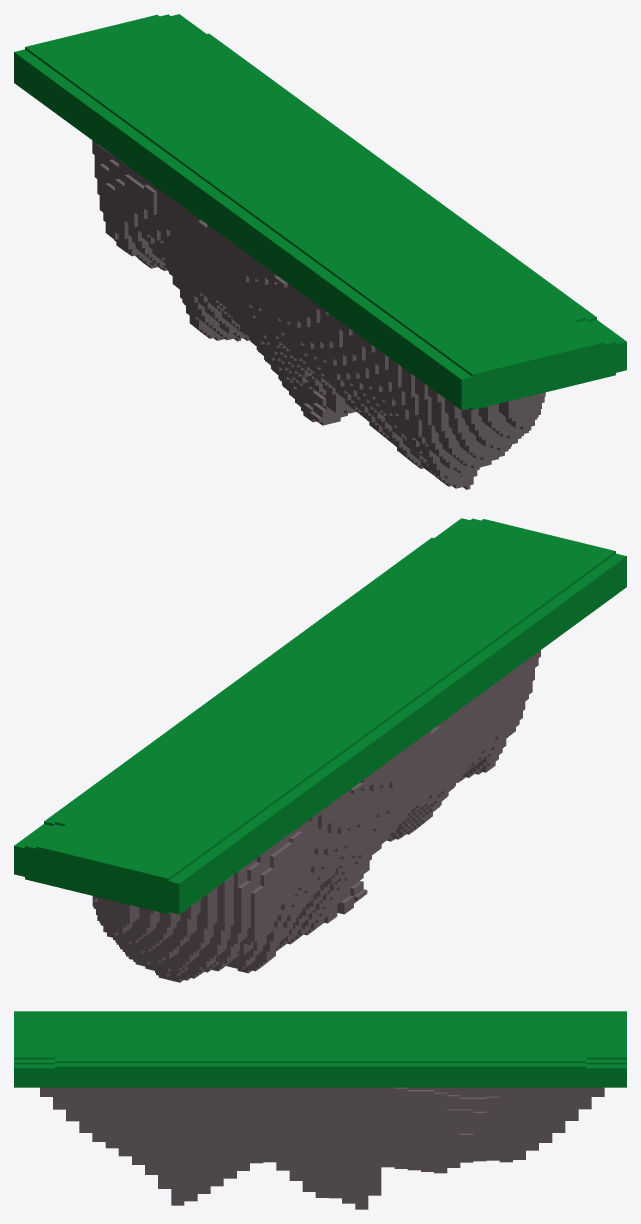
The model's file is VoxelPlatform.fbx.
3 views of the same model, one above another, from view 1: azimuth 30°, elevation 25°; view 2: azimuth 150°, elevation 25°; view 3: azimuth 270°, elevation 25° (orthographic). The views are drawn at different scales.
Visible parts, largest first — view 1: Cube.001; view 2: Cube.001; view 3: Cube.001.
Part boxes in pixels (x1,y1,x2,y2): Cube.001: (14, 14, 626, 489); Cube.001: (14, 518, 626, 982); Cube.001: (14, 1011, 626, 1209).
Bounding box in the file's own units: 182 × 248 × 848.
